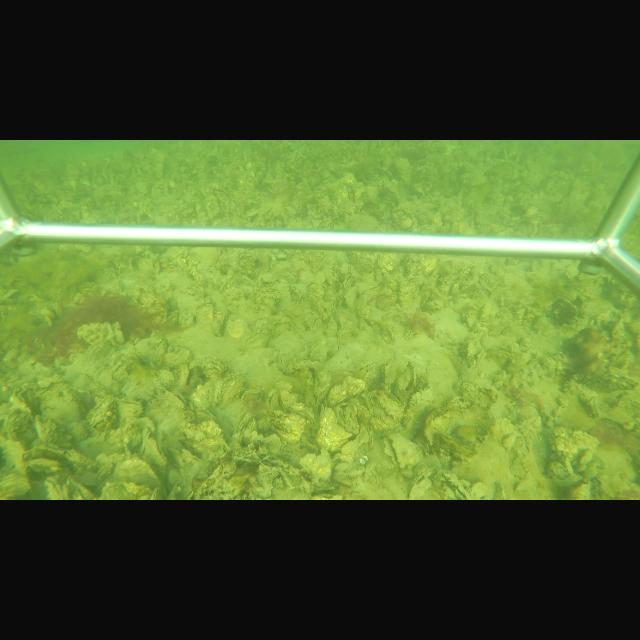Oyster-Closed: (316, 406, 352, 451), (113, 455, 164, 486), (219, 373, 248, 407), (141, 434, 167, 468), (395, 359, 415, 402), (241, 328, 271, 355), (382, 355, 400, 390), (344, 282, 360, 309), (174, 363, 189, 388), (324, 315, 339, 337), (339, 310, 349, 335), (325, 297, 338, 314)
Oyster-Open: (384, 431, 425, 468), (20, 443, 66, 475), (406, 471, 433, 500), (156, 387, 187, 410), (266, 387, 283, 412)
